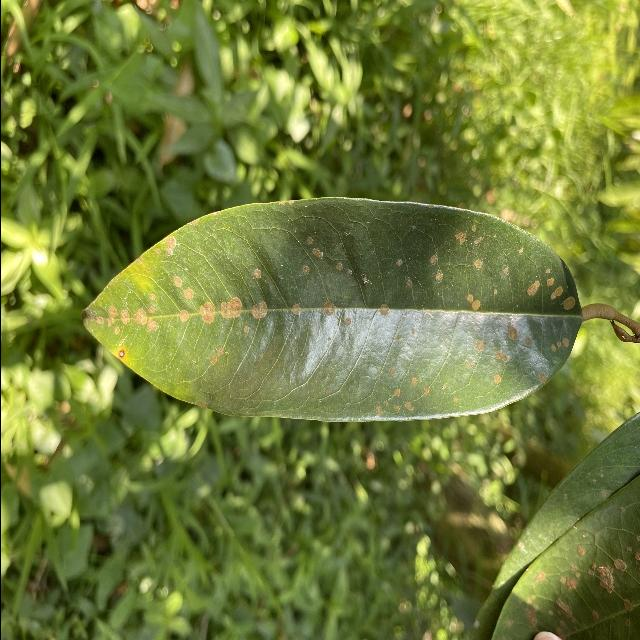Algal Leaf Spot: (76, 189, 591, 430)
